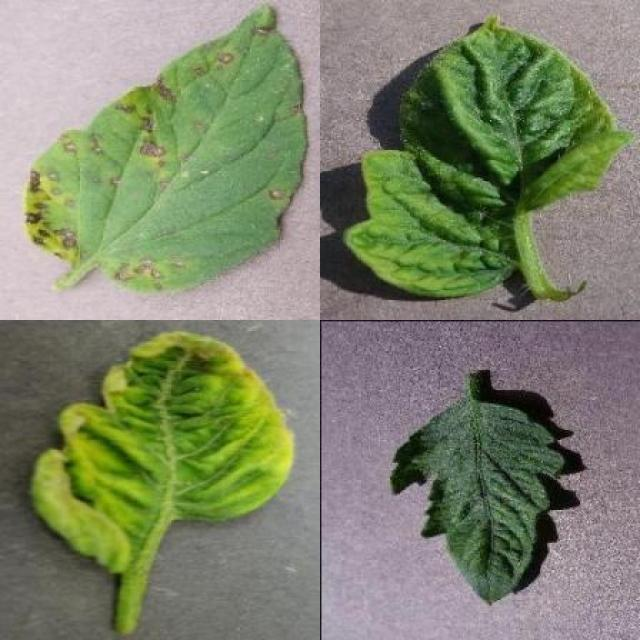Mosaic Virus: (388, 399, 566, 606)
Septoria: (24, 4, 310, 296)
Yellow Leaf Curl Virus: (341, 16, 635, 297), (30, 332, 296, 578)
